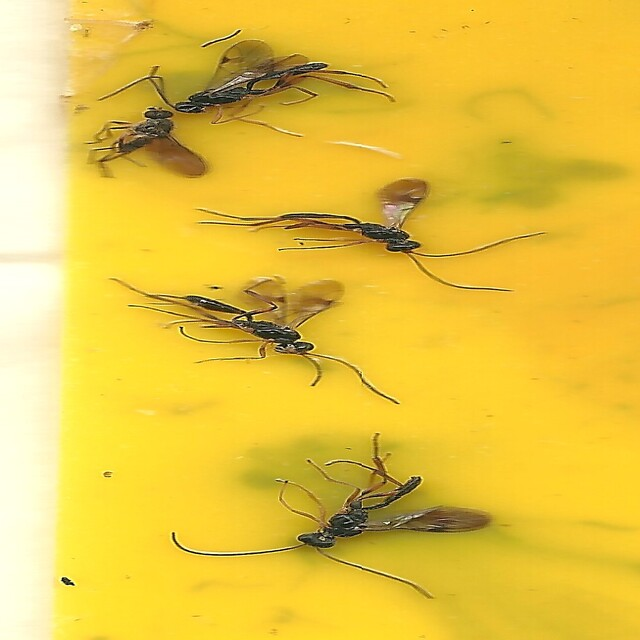Hymenoptera: (167, 435, 493, 599), (199, 180, 542, 291), (118, 279, 401, 406), (98, 41, 395, 134)
